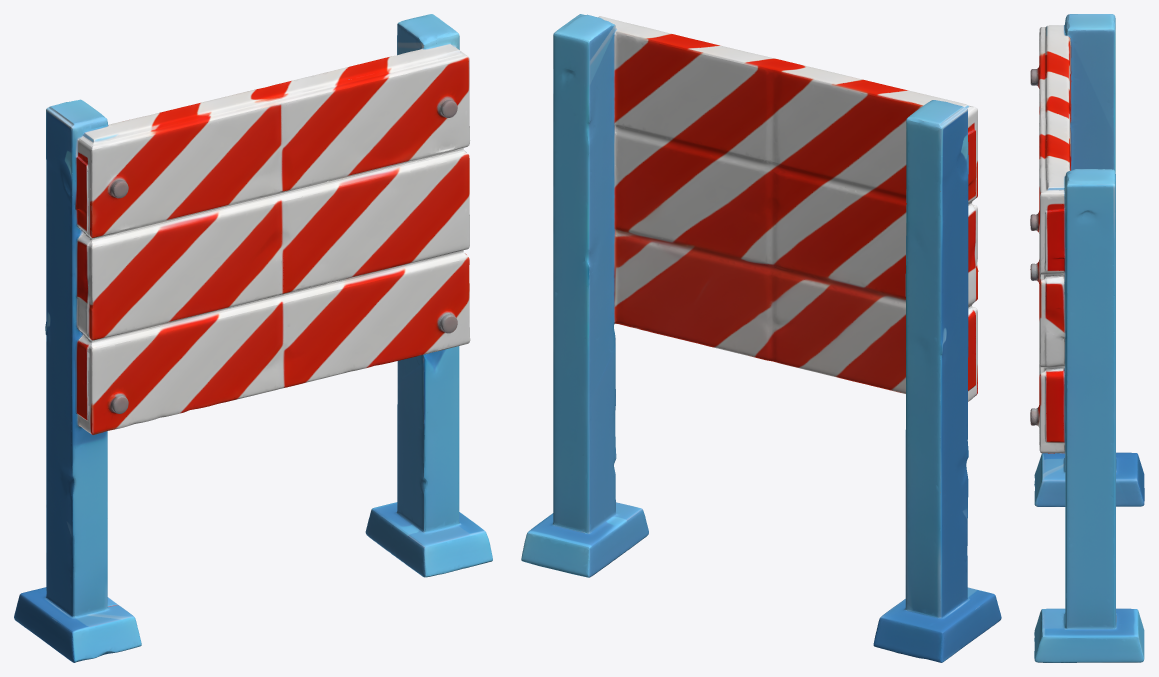
Rendered from lod_basic_pbr.fbx.
3 views of the same model, side by side, from view 1: azimuth 30°, elevation 25°; view 2: azimuth 150°, elevation 25°; view 3: azimuth 270°, elevation 25° (orthographic). The views are drawn at different scales.
Parts seen in each view (by area): view 1: model_LOD0; view 2: model_LOD0; view 3: model_LOD0.
Part boxes in pixels (bbox=[...]): model_LOD0: bbox=[14, 14, 492, 662]; model_LOD0: bbox=[521, 14, 1001, 662]; model_LOD0: bbox=[1030, 14, 1144, 662].
Size of what is drawn, in the model's own units: 160 by 190 by 41.53.
Materials: 1 (1 with a texture image).
